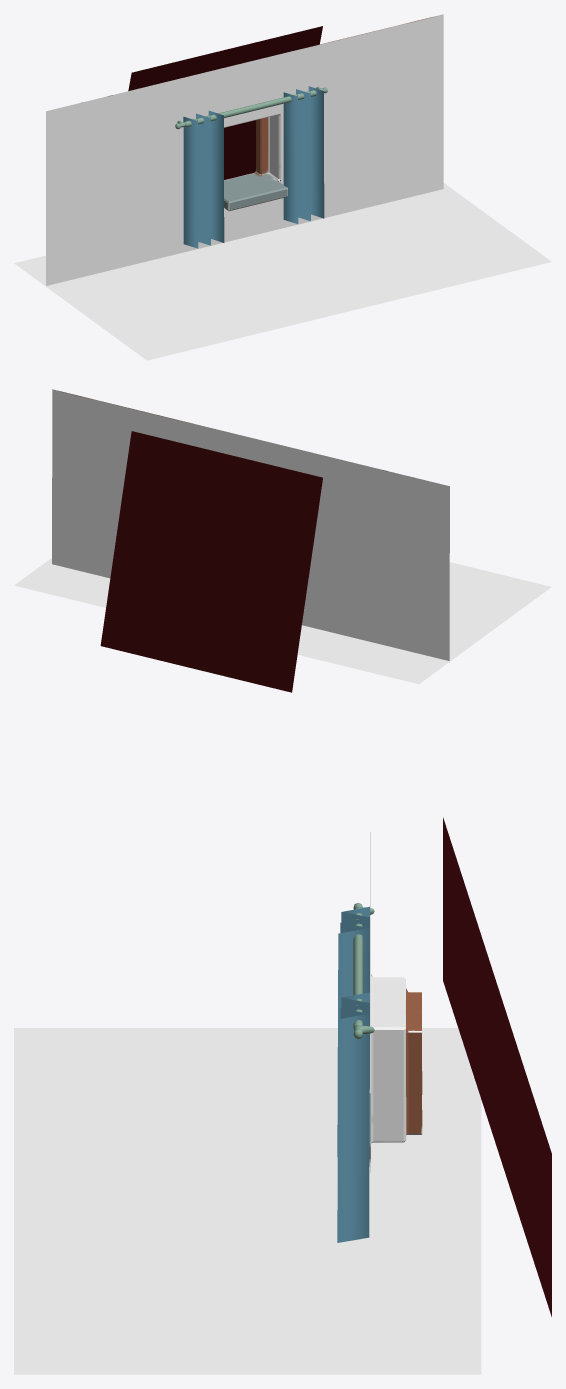
3 renders of one model, top to bottom at view 1: azimuth 30°, elevation 25°; view 2: azimuth 150°, elevation 25°; view 3: azimuth 270°, elevation 25°, orthographic. The views are drawn at different scales.
Parts seen in each view (by area): view 1: Wall_2, Plane.001_7, Plane_6, curtain2_5, curtain_4, curtainrail_3; view 2: Plane_6, Wall_2, Plane.001_7; view 3: Plane.001_7, Plane_6, Wall_2, curtain_4, curtain2_5, curtainrail_3.
Boxes of the visible parts, x1,y1,x2,y2 form: Wall_2: [46, 14, 443, 287]; Plane.001_7: [14, 183, 551, 360]; Plane_6: [128, 26, 322, 181]; curtain2_5: [183, 110, 224, 248]; curtain_4: [283, 86, 324, 223]; curtainrail_3: [175, 86, 327, 129]; Plane_6: [100, 431, 322, 692]; Wall_2: [52, 389, 449, 662]; Plane.001_7: [14, 558, 551, 684]; Plane.001_7: [14, 1028, 481, 1374]; Plane_6: [443, 817, 551, 1316]; Wall_2: [369, 832, 422, 1172]; curtain_4: [337, 992, 369, 1242]; curtain2_5: [337, 906, 369, 1156]; curtainrail_3: [353, 903, 374, 1039].
Bounding box in the file's own units: 38.28 × 17.58 × 25.08.
Materials: 5 (1 with a texture image).
